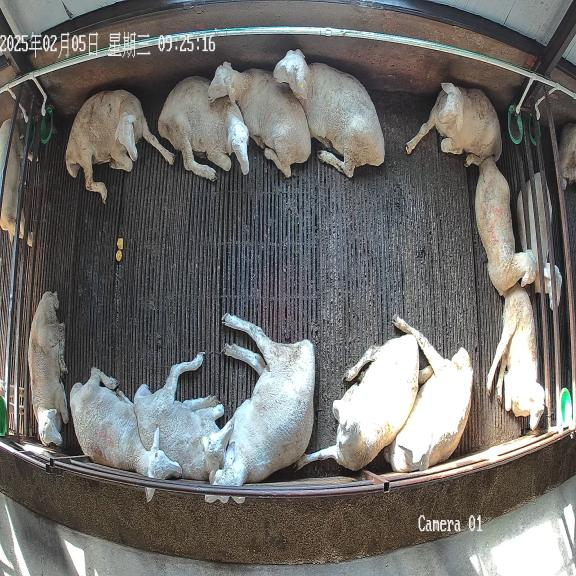lying: (205, 314, 315, 503), (297, 334, 419, 470), (274, 49, 385, 177), (383, 316, 473, 472), (134, 353, 233, 481), (70, 368, 182, 479), (65, 90, 175, 202), (208, 62, 311, 177), (158, 76, 249, 180), (475, 158, 538, 295), (487, 286, 545, 429), (406, 83, 502, 166), (28, 292, 70, 446)
